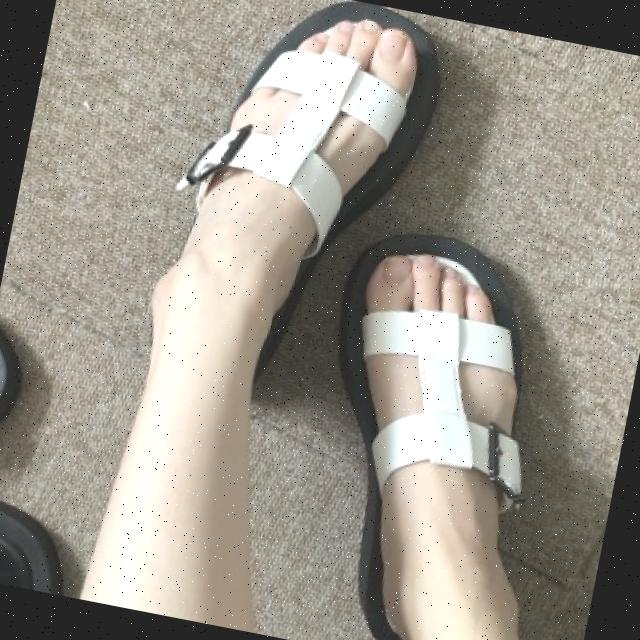no-boots: (296, 201, 588, 640), (142, 0, 390, 397)
